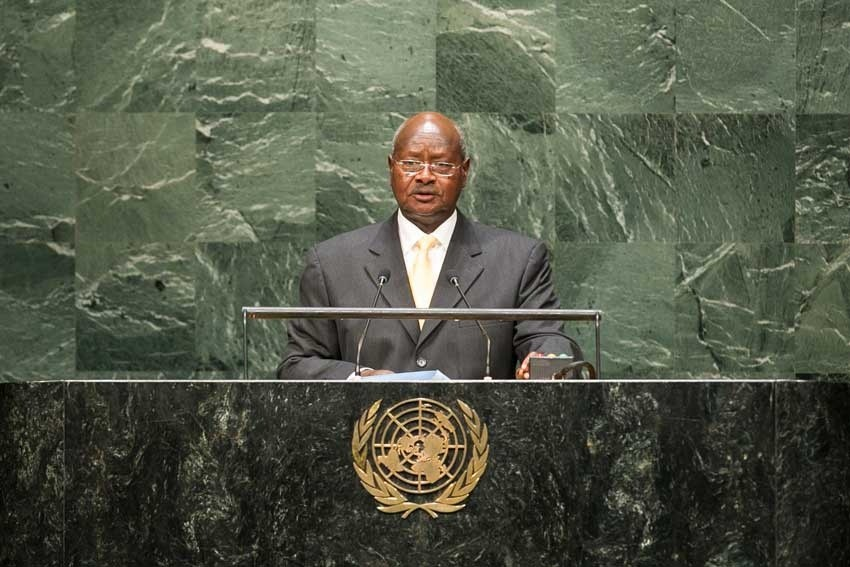face_no_mask: (387, 114, 471, 224)
